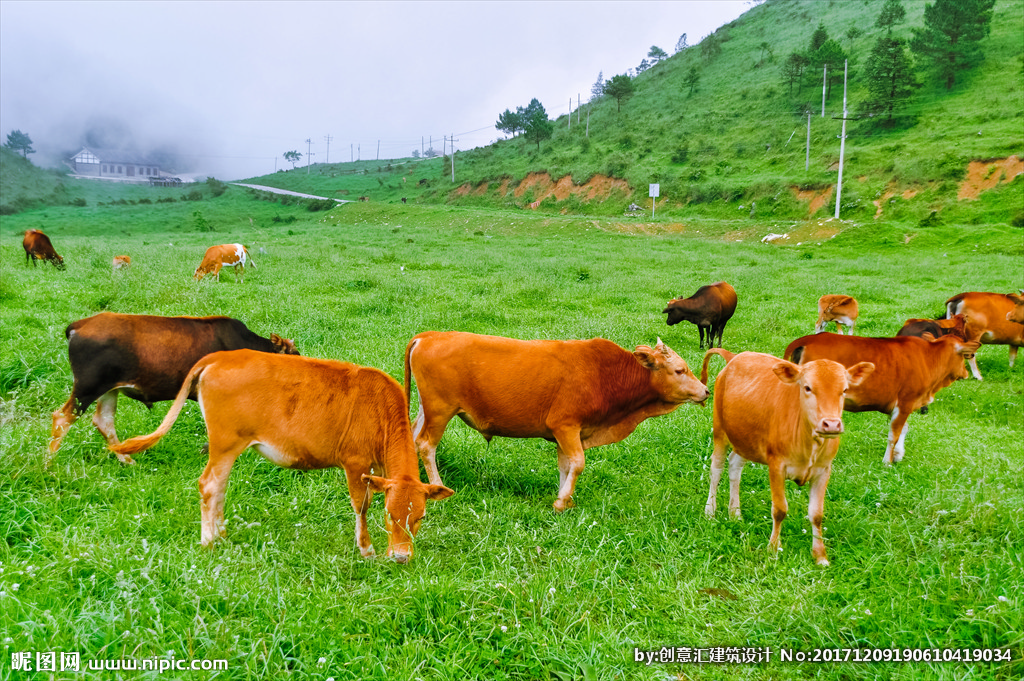background: (46, 312, 302, 465)
